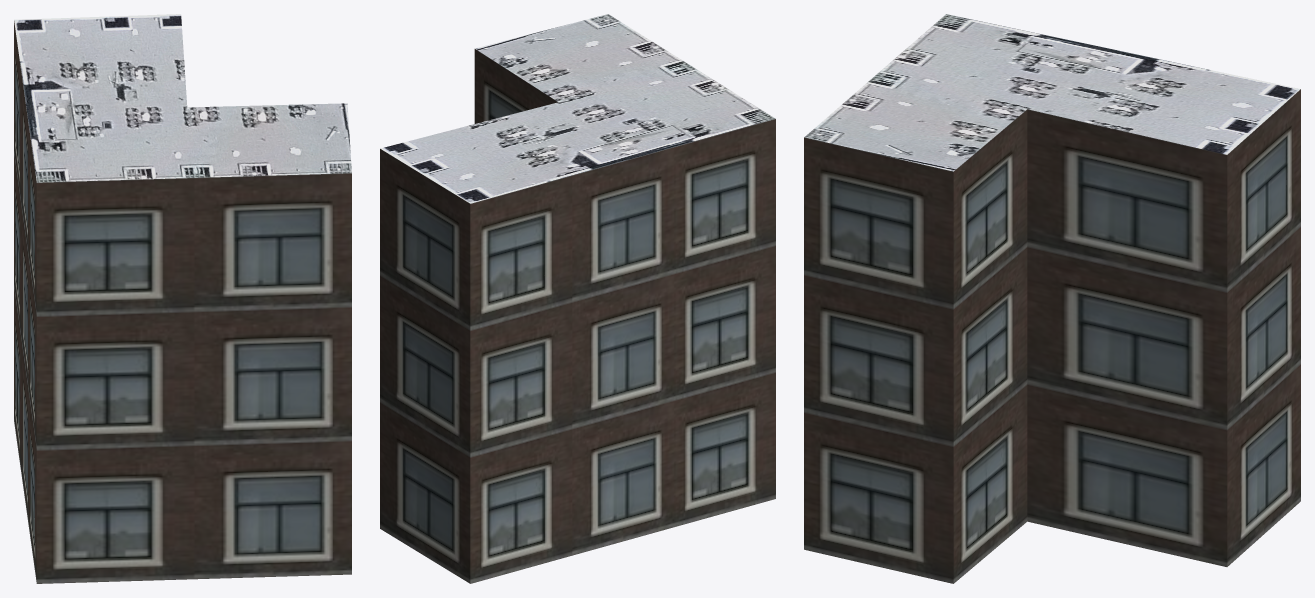
Rendered from ResTex__4193.fbx.
3 renders of one model, left to right at view 1: azimuth 30°, elevation 25°; view 2: azimuth 150°, elevation 25°; view 3: azimuth 270°, elevation 25°, orthographic. The views are drawn at different scales.
Visible parts, largest first — view 1: CityEngineMaterial_16_m, CityEngineMaterial_15_m; view 2: CityEngineMaterial_16_m, CityEngineMaterial_15_m; view 3: CityEngineMaterial_16_m, CityEngineMaterial_15_m.
Part boxes in pixels (<box>): CityEngineMaterial_16_m: <box>14,21,351,583</box>; CityEngineMaterial_15_m: <box>14,14,351,182</box>; CityEngineMaterial_16_m: <box>380,49,775,583</box>; CityEngineMaterial_15_m: <box>380,14,775,203</box>; CityEngineMaterial_16_m: <box>804,89,1300,583</box>; CityEngineMaterial_15_m: <box>804,14,1300,171</box>.
Size of the model in its own units: 7.38 by 9 by 9.82.
Materials: 2 (2 with a texture image).
